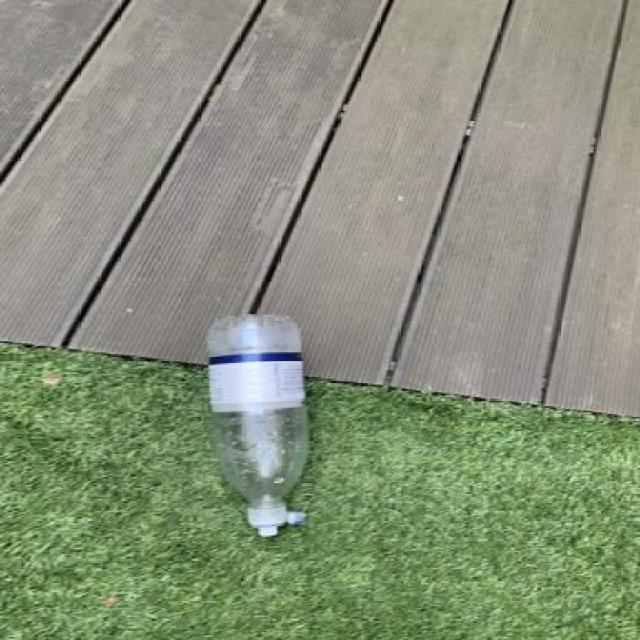trash: (199, 309, 318, 546)
